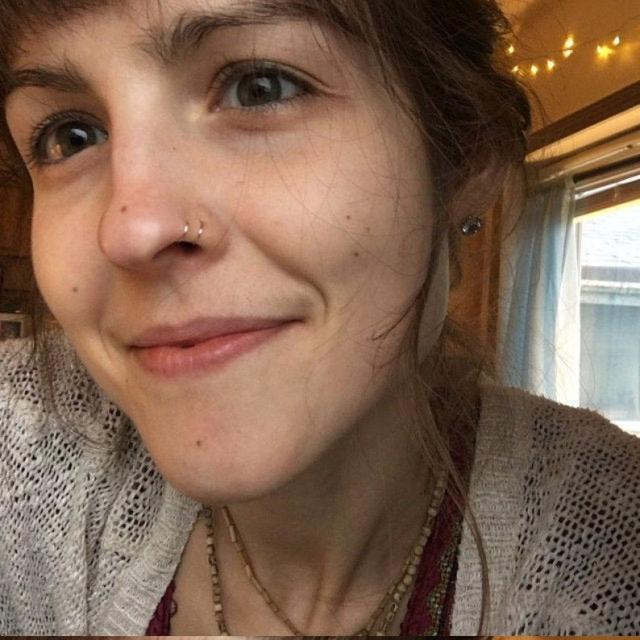Earring: (452, 206, 488, 244)
